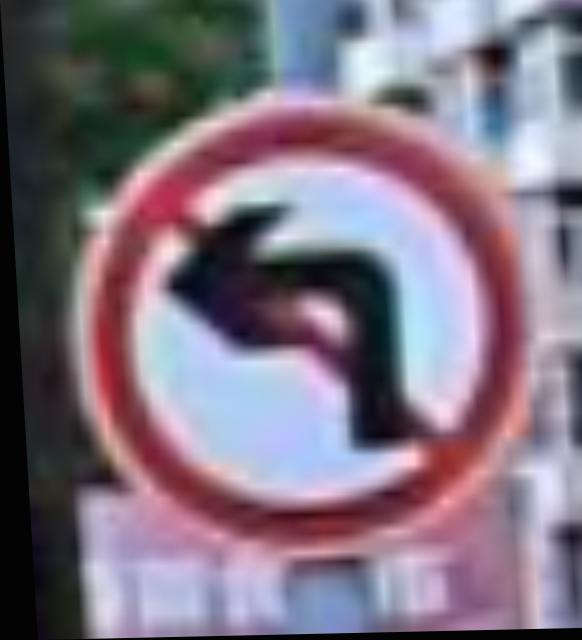not_turn_left: (63, 90, 535, 546)
